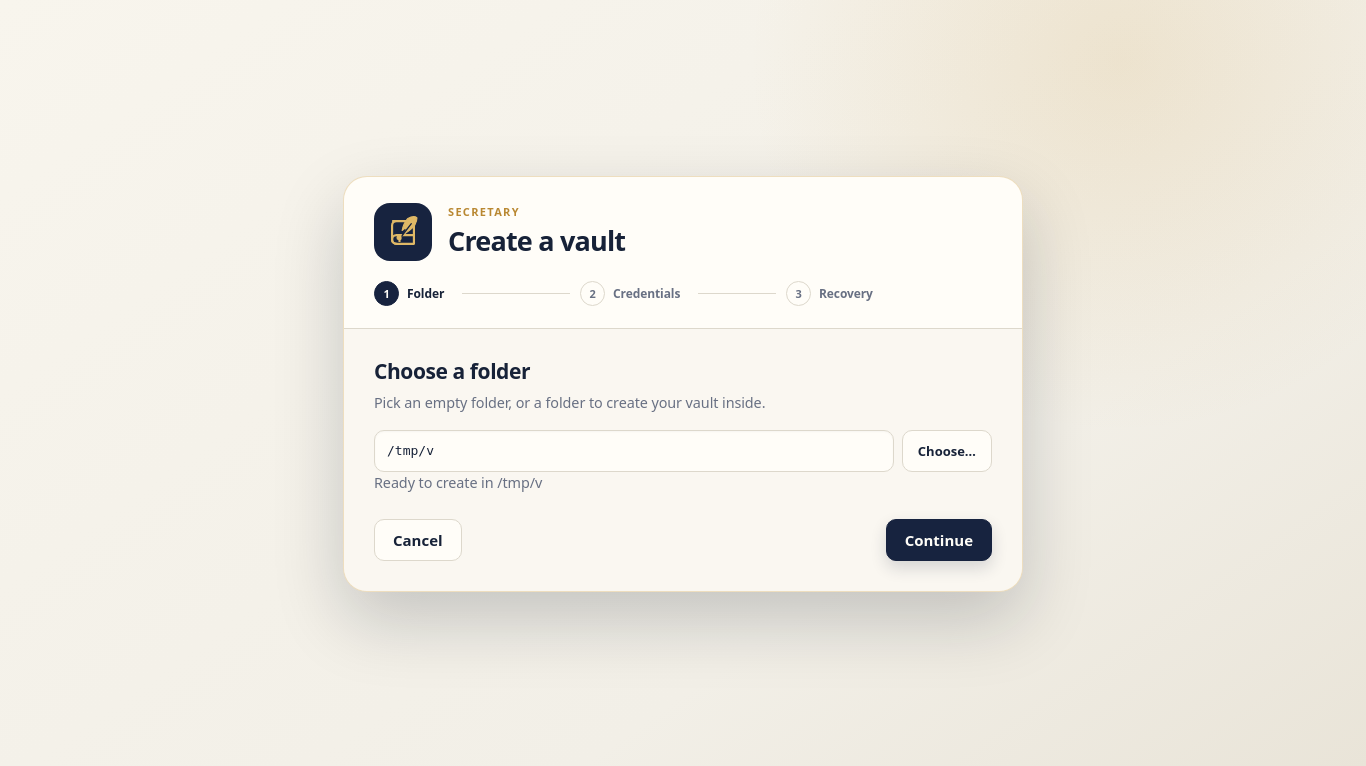
Test: CreateVault host › advances folder -> credentials -> mnemonic on a successful create
Click the button "Continue": (939, 540) [886,519,992,561]
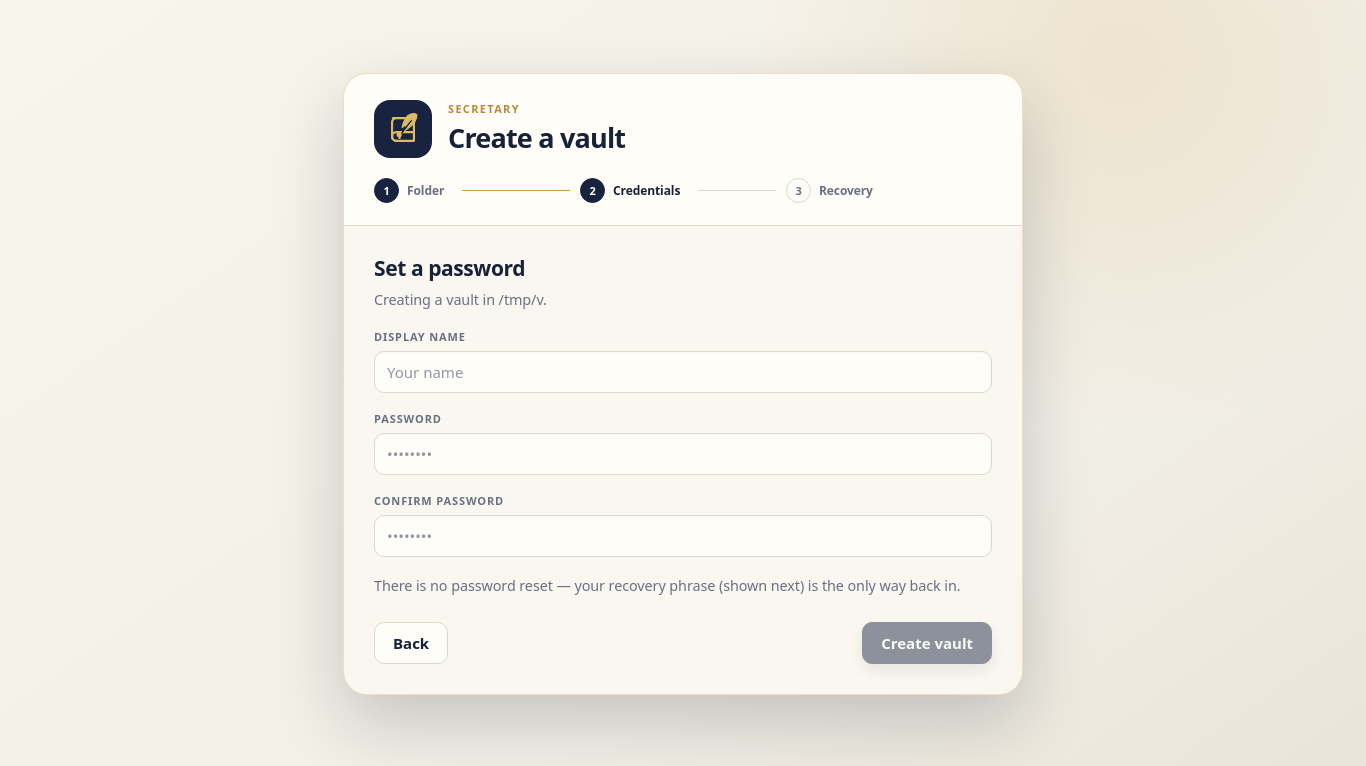
# Credentials step.
In the field labelled "Display name": (683, 372) [374,350,992,392], type "Me"
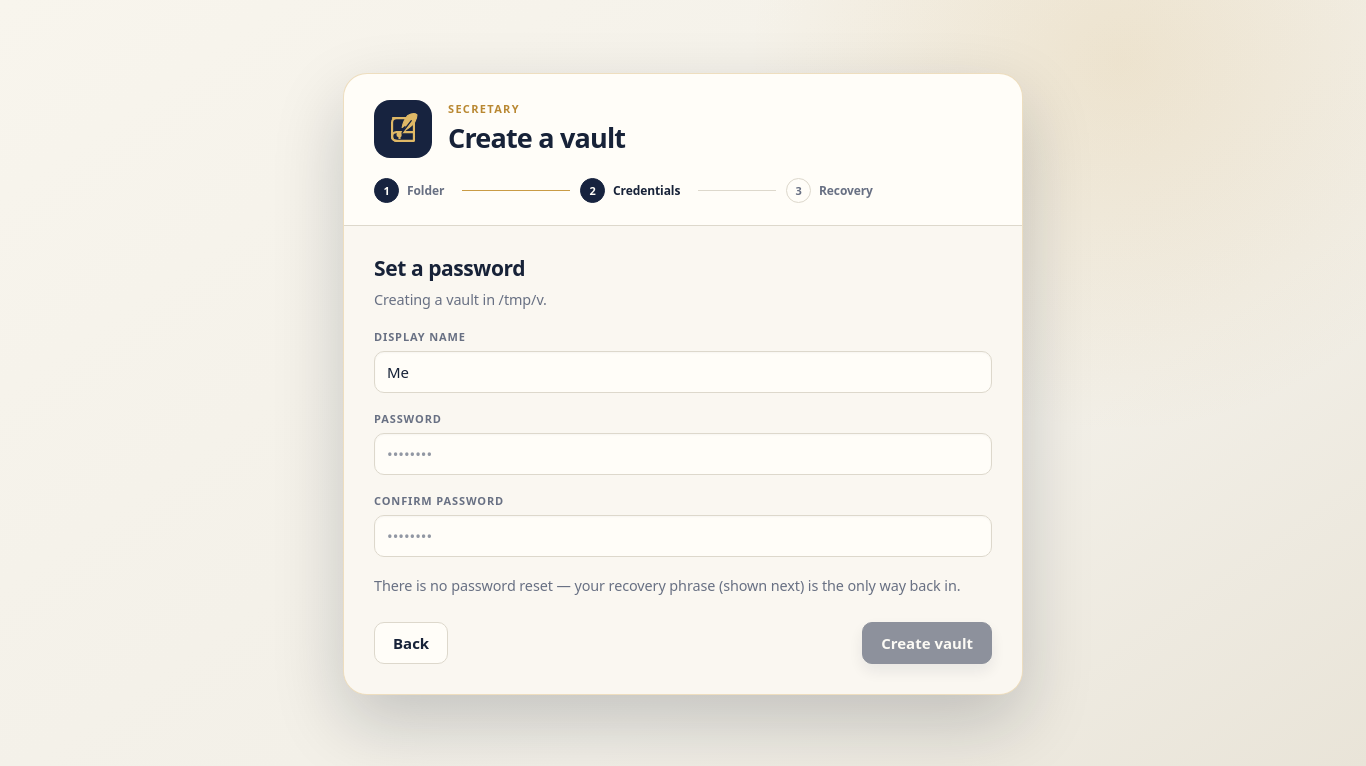
In the password field labelled "Password": (683, 454) [374,432,992,474], type "pw"
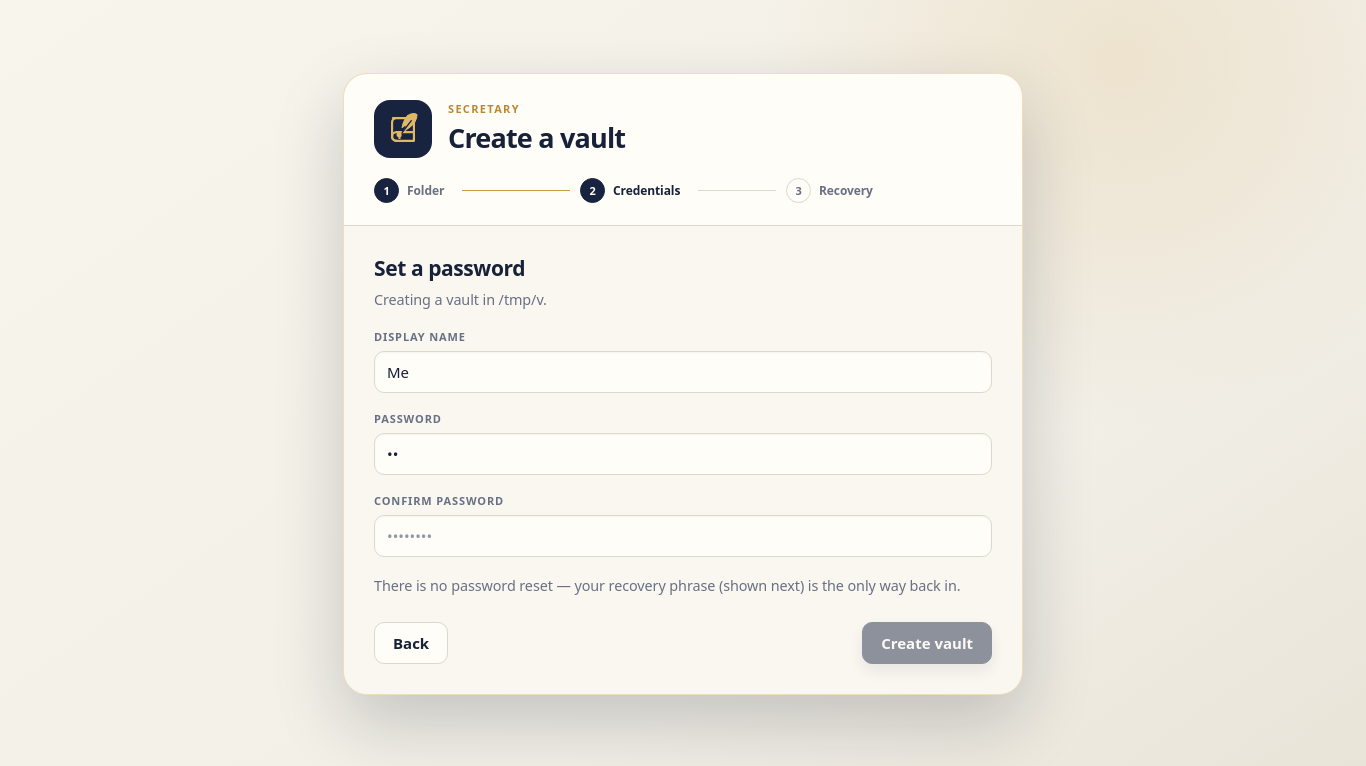
In the password field labelled "Confirm password": (683, 536) [374,514,992,556], type "pw"
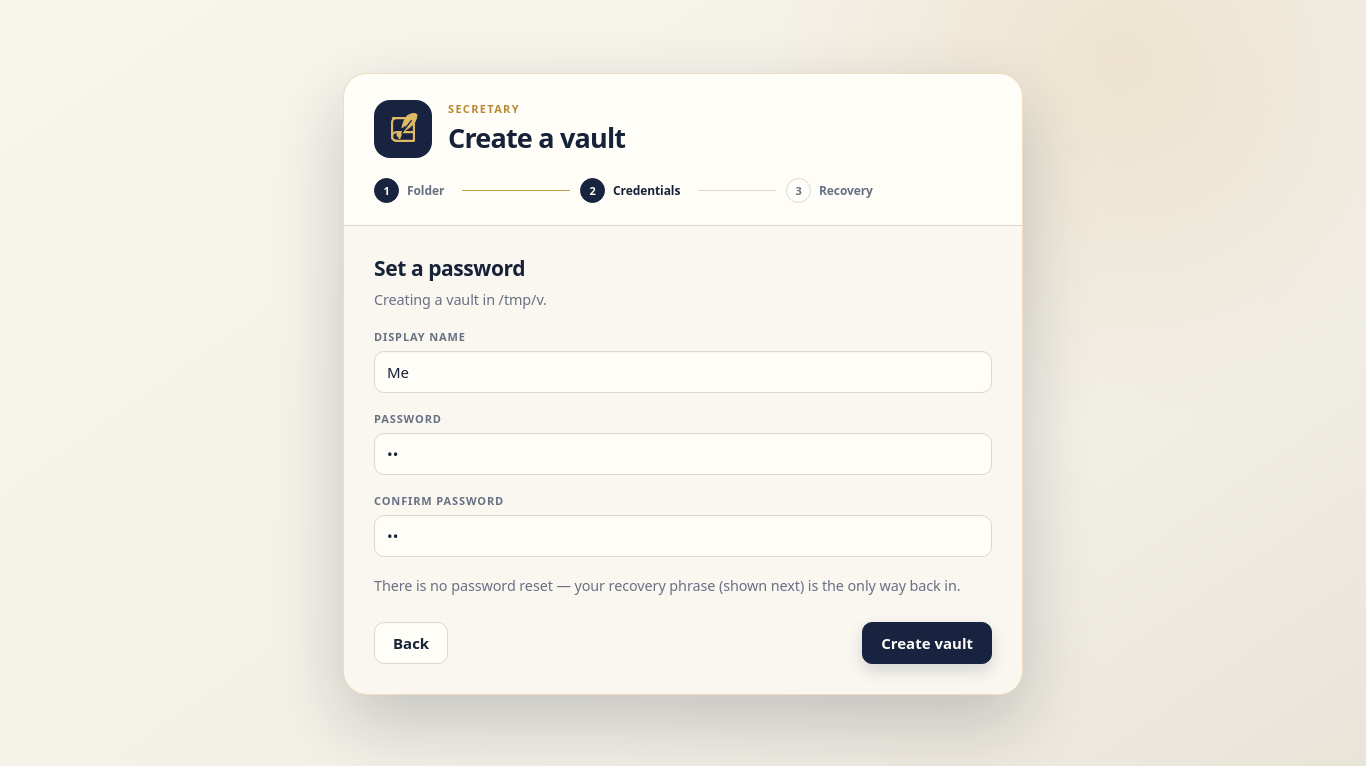
Click the button "Create vault": (927, 643) [862,622,992,664]
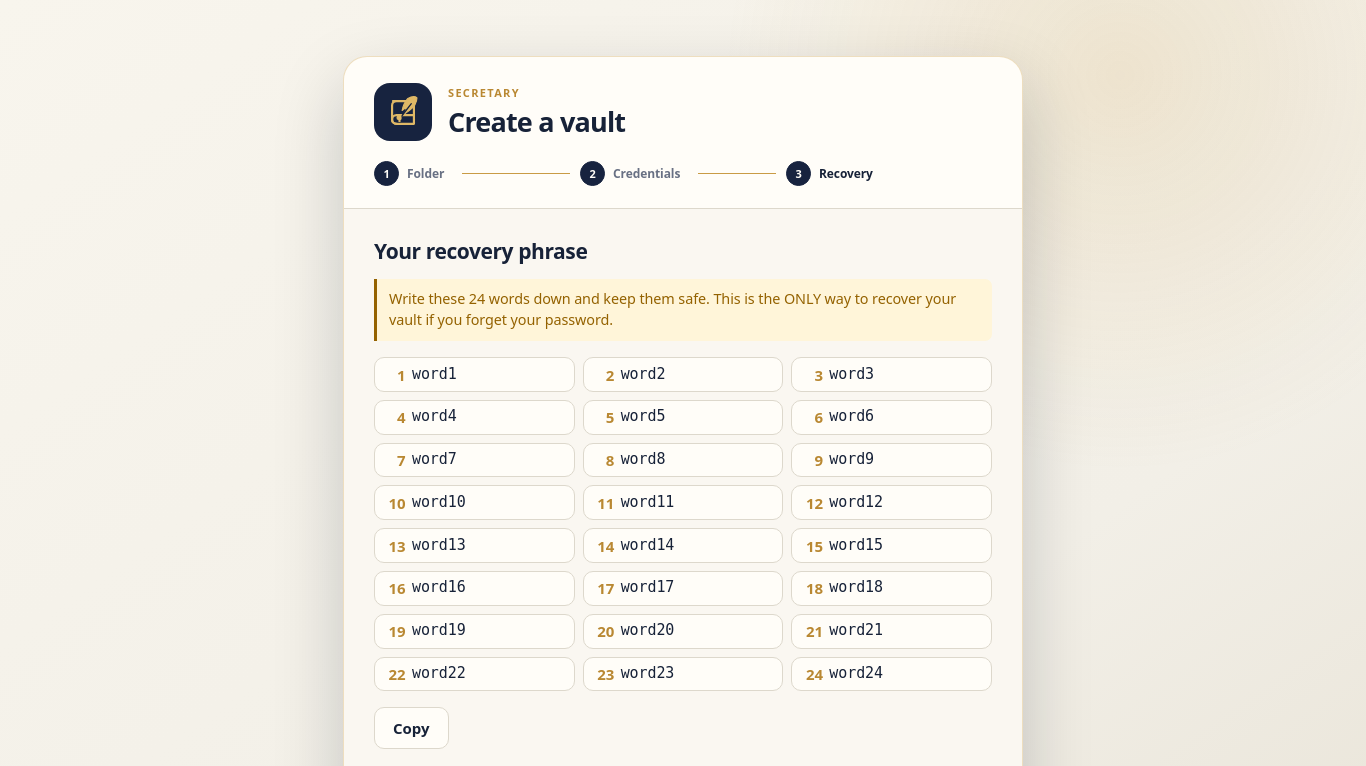
Expected: the number of list items with test id "mnemonic-word" is 24
